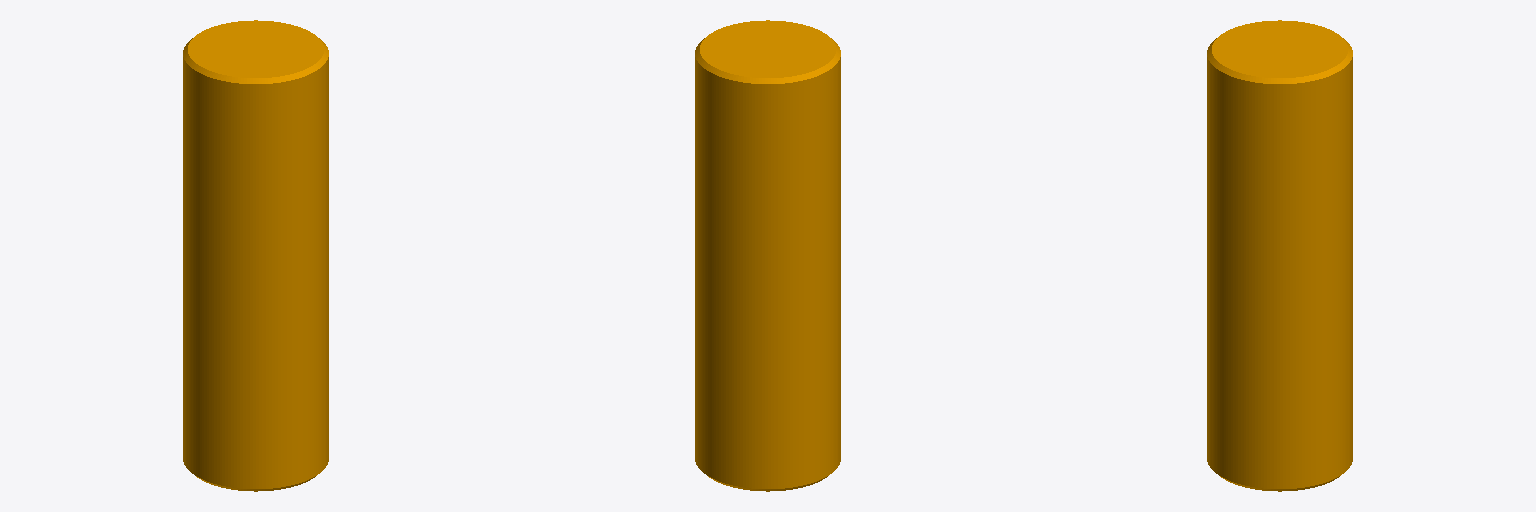
The robot description file, URDF, robot "factory_round_peg_16mm_tight":
<?xml version="1.0"?>
<robot name="factory_round_peg_16mm_tight">
    <link name="factory_round_peg_16mm_tight">
        <visual>
            <geometry>
                <mesh filename="../mesh/factory_insertion/factory_round_peg_16mm_tight.obj"/>
            </geometry>
        </visual>
        <collision>
            <geometry>
                <mesh filename="../mesh/factory_insertion/factory_round_peg_16mm_tight.obj"/>
            </geometry>
            <sdf resolution="256"/>
        </collision>
    </link>
</robot>

--- Facts derived from the render (not from the file) ---
The picture shows the robot from 3 angles, left to right: view 1: azimuth 30°, elevation 25°; view 2: azimuth 150°, elevation 25°; view 3: azimuth 270°, elevation 25°; orthographic projection.
Robot: factory_round_peg_16mm_tight — 1 links, 0 joints (none); root link factory_round_peg_16mm_tight; default pose: every joint at zero.
Links seen in each view (by area): view 1: factory_round_peg_16mm_tight; view 2: factory_round_peg_16mm_tight; view 3: factory_round_peg_16mm_tight.
Boxes of the visible links, box(x1,y1,x2,y2) form: factory_round_peg_16mm_tight: box(183, 20, 328, 491); factory_round_peg_16mm_tight: box(695, 20, 840, 491); factory_round_peg_16mm_tight: box(1207, 20, 1352, 491).
Bounding box of the posed robot: 0.016 × 0.016 × 0.05 m (x, y, z).
Meshes: 1 distinct files referenced, 1 mesh visuals loaded (1 OBJ).